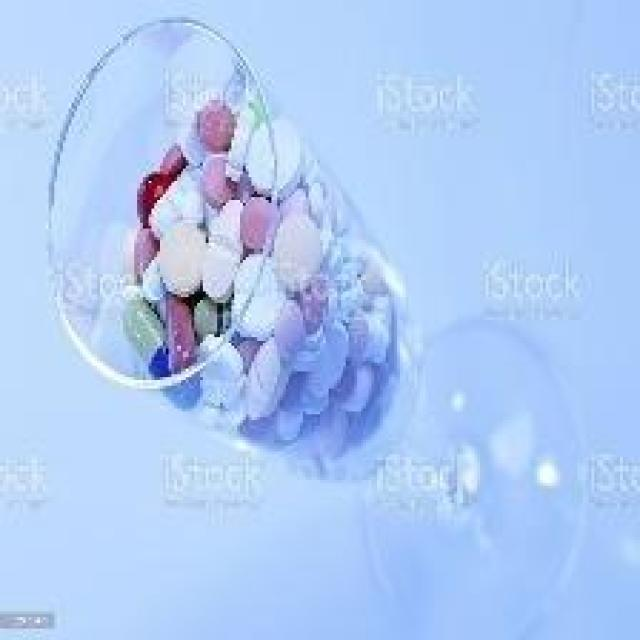Medicine: (54, 56, 473, 503)
